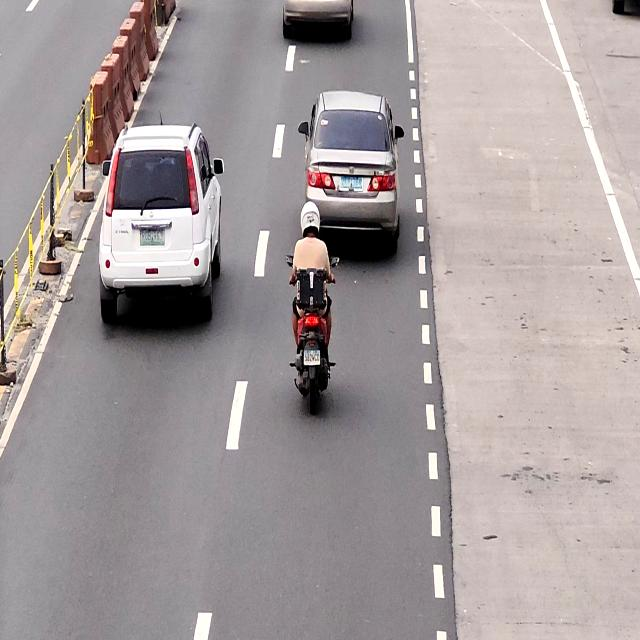Car: (104, 125, 220, 325), (307, 94, 405, 254), (277, 0, 356, 42)
License-Plate: (136, 225, 166, 248), (340, 173, 364, 193), (303, 349, 321, 367)
Motorcycle: (296, 207, 334, 418)
